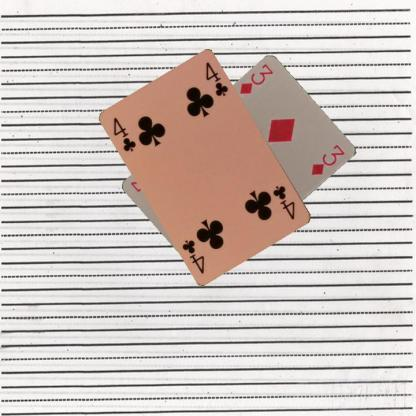3d: (237, 61, 275, 97)
4c: (270, 183, 296, 221), (111, 115, 137, 153)
